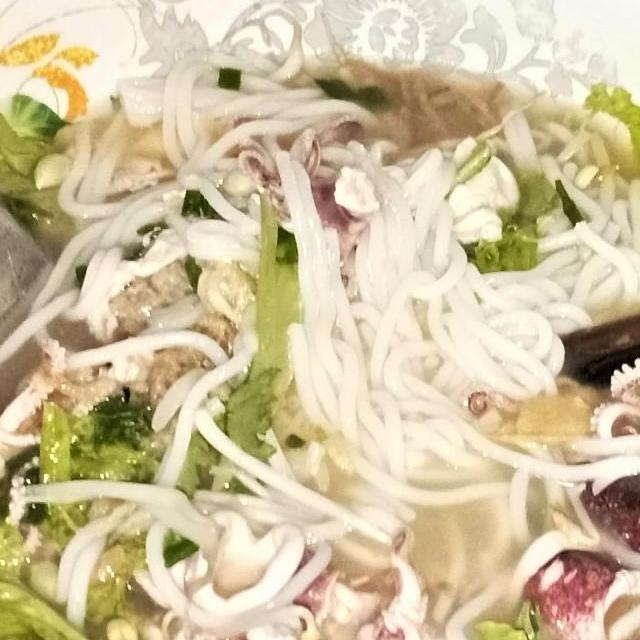bun: (256, 111, 640, 509), (0, 0, 395, 373), (177, 395, 438, 572)
muc: (138, 509, 363, 640), (0, 336, 143, 534), (227, 109, 385, 273), (267, 522, 450, 640), (556, 348, 640, 569), (492, 523, 640, 640)
